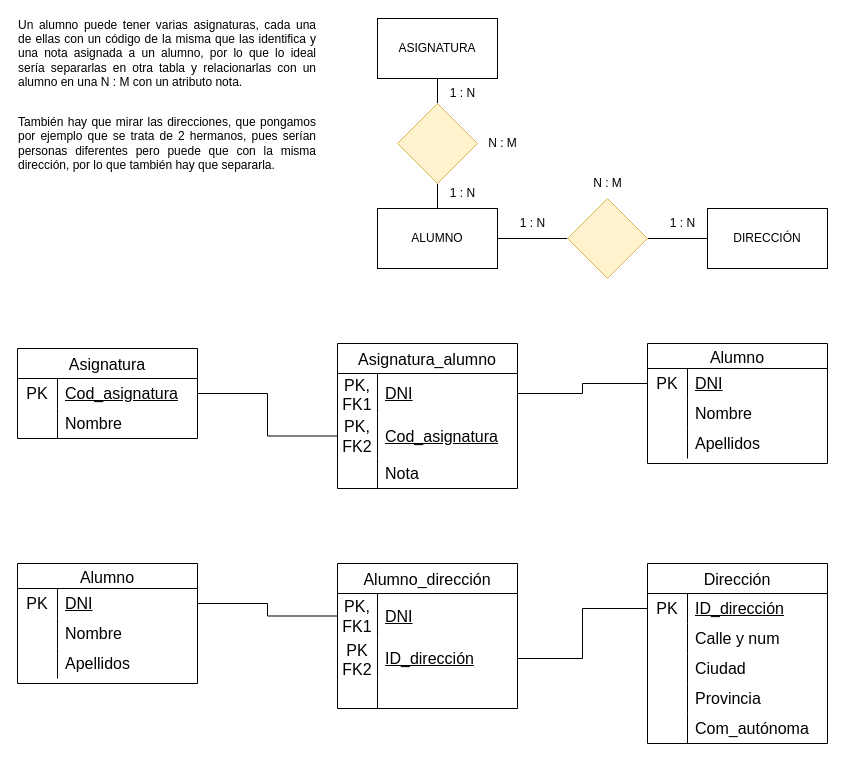
Image size: 845x761. Some labels were removed from this diagram. Each missing label, with the centre of its shape:
"CURSA" goes at (x=437, y=143).
"TIENE" goes at (x=607, y=238).
